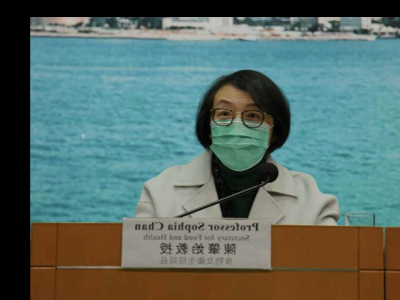with_mask: (208, 97, 274, 172)
